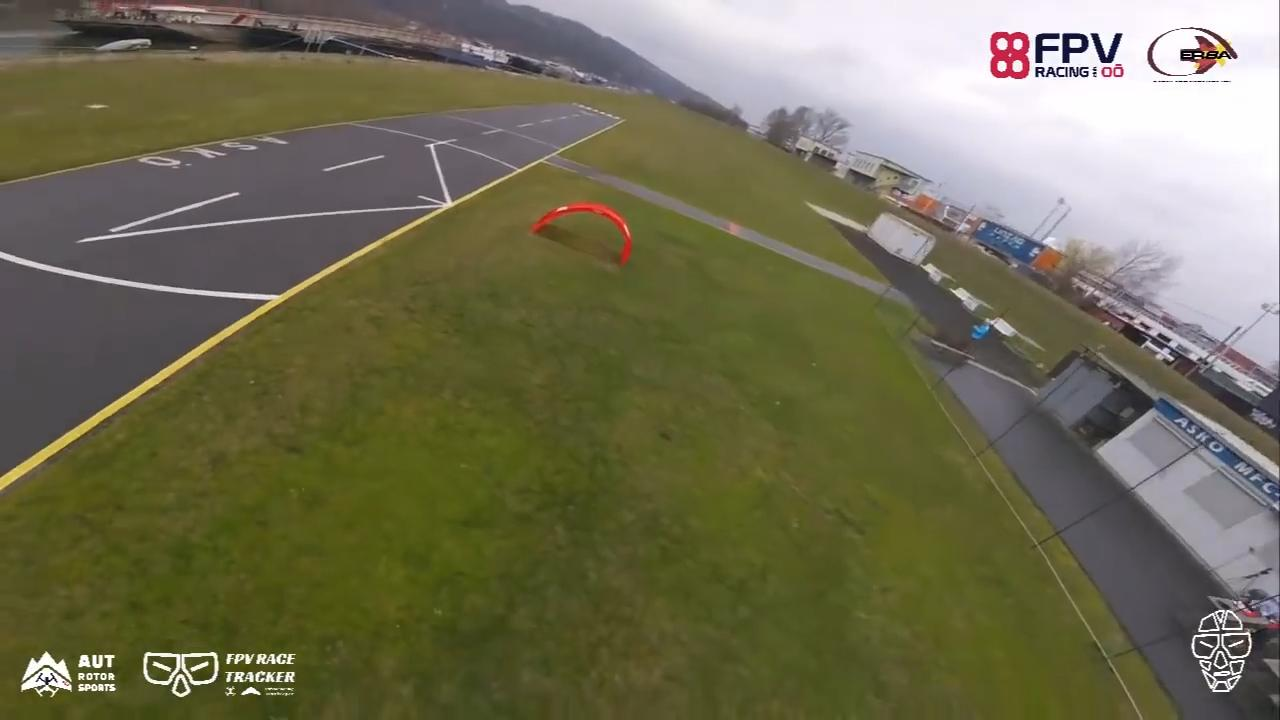gate: (531, 200, 632, 273)
